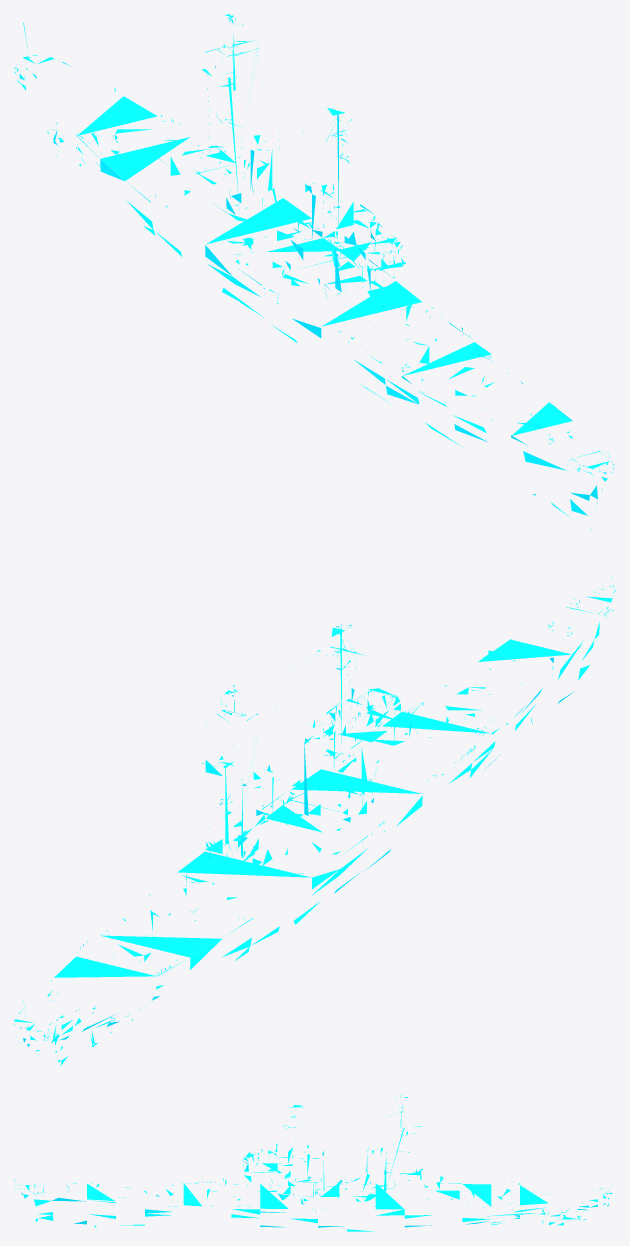
The model's file is Pr_Alexander_Nevsky.glb.
3 renders of one model, top to bottom at view 1: azimuth 30°, elevation 25°; view 2: azimuth 150°, elevation 25°; view 3: azimuth 270°, elevation 25°, orthographic. The views are drawn at different scales.
Bounding box in the file's own units: 1.66 × 3.71 × 15.36.
